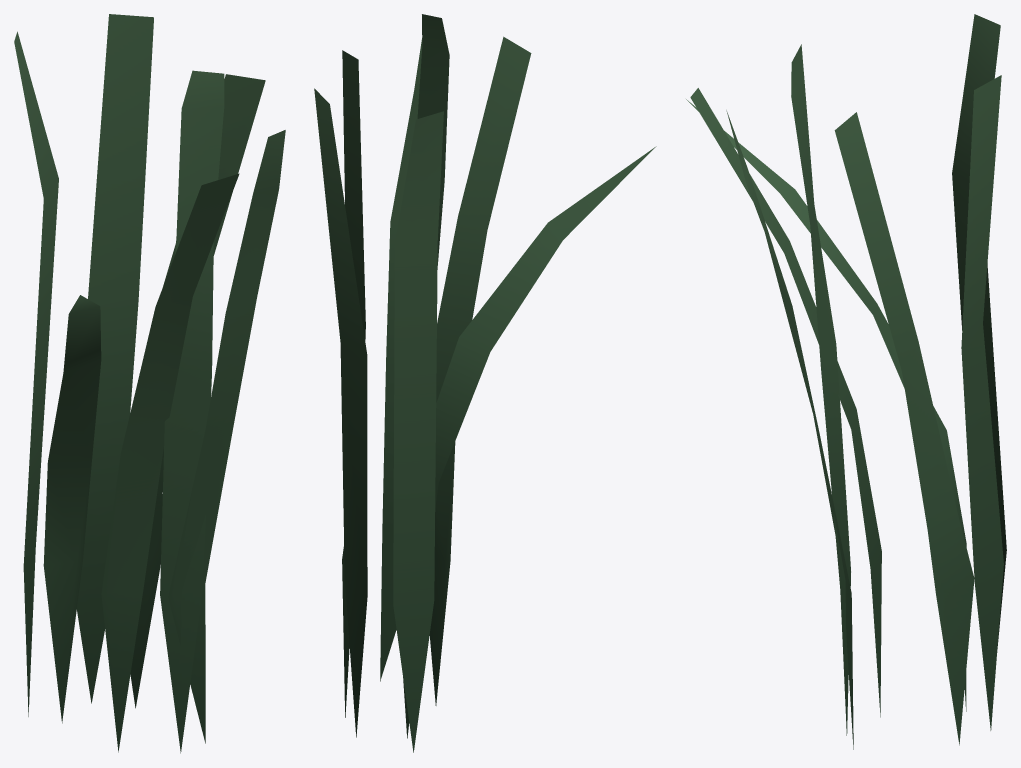
The model's file is trees-grasses-tall-grass_v11.glb.
3 views of the same model, side by side, from view 1: azimuth 30°, elevation 25°; view 2: azimuth 150°, elevation 25°; view 3: azimuth 270°, elevation 25° (orthographic). The views are drawn at different scales.
Parts seen in each view (by area): view 1: Tall Grass_v11; view 2: Tall Grass_v11; view 3: Tall Grass_v11.
Boxes of the visible parts, box(x1,y1,x2,y2) form: Tall Grass_v11: box(14, 14, 285, 753); Tall Grass_v11: box(314, 14, 656, 752); Tall Grass_v11: box(686, 14, 1006, 749).
Size of the model in its own units: 0.1946 by 0.5 by 0.211.
